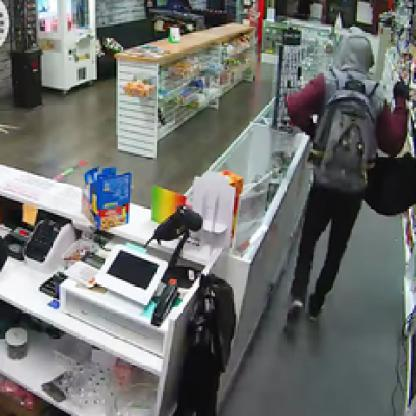Human Body: (270, 24, 414, 338)
